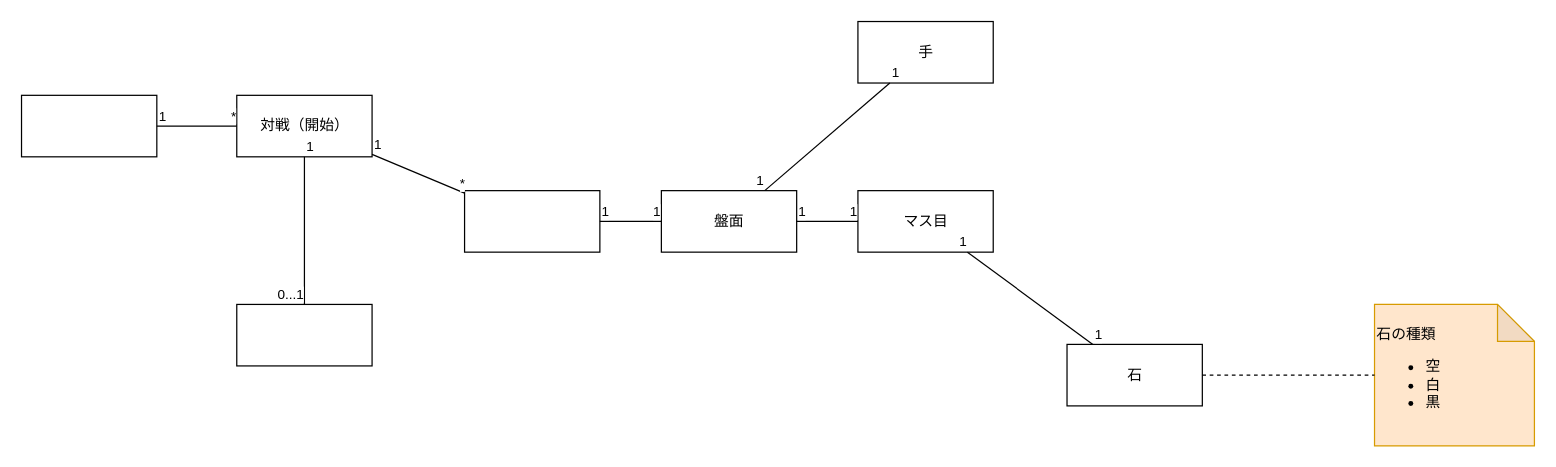
Image size: 1556x467. Some labels were removed from this diagram. Here are the shapes that lost their labels. From the top down, the box of each, then its label:
(20, 94, 157, 157): プレイヤー
(463, 189, 600, 252): ターン
(236, 303, 372, 366): 勝敗結果
